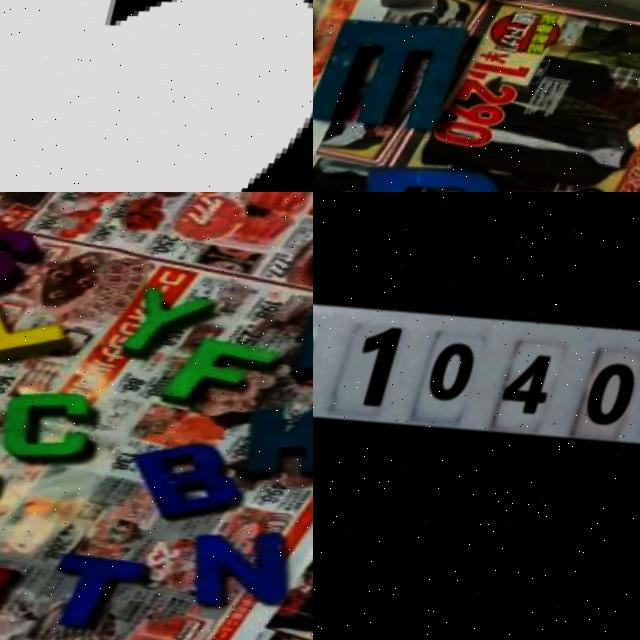0: (419, 329, 493, 424), (577, 354, 640, 448), (313, 307, 332, 409)
1: (333, 315, 416, 421)
2: (2, 0, 313, 192)
4: (494, 338, 574, 440)
B: (127, 437, 256, 531)
C: (0, 390, 113, 475)
D: (287, 306, 313, 393)
F: (171, 337, 288, 423)
K: (239, 407, 313, 497)
L: (0, 284, 87, 378)
M: (314, 13, 482, 148)
N: (190, 530, 313, 629)
P: (351, 161, 512, 192)
S: (0, 216, 45, 303)
T: (55, 550, 165, 640)
Y: (123, 286, 223, 371)
